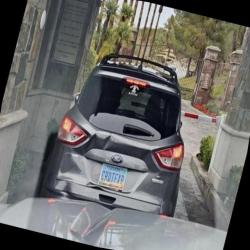LicensePlate: (97, 162, 127, 190)
